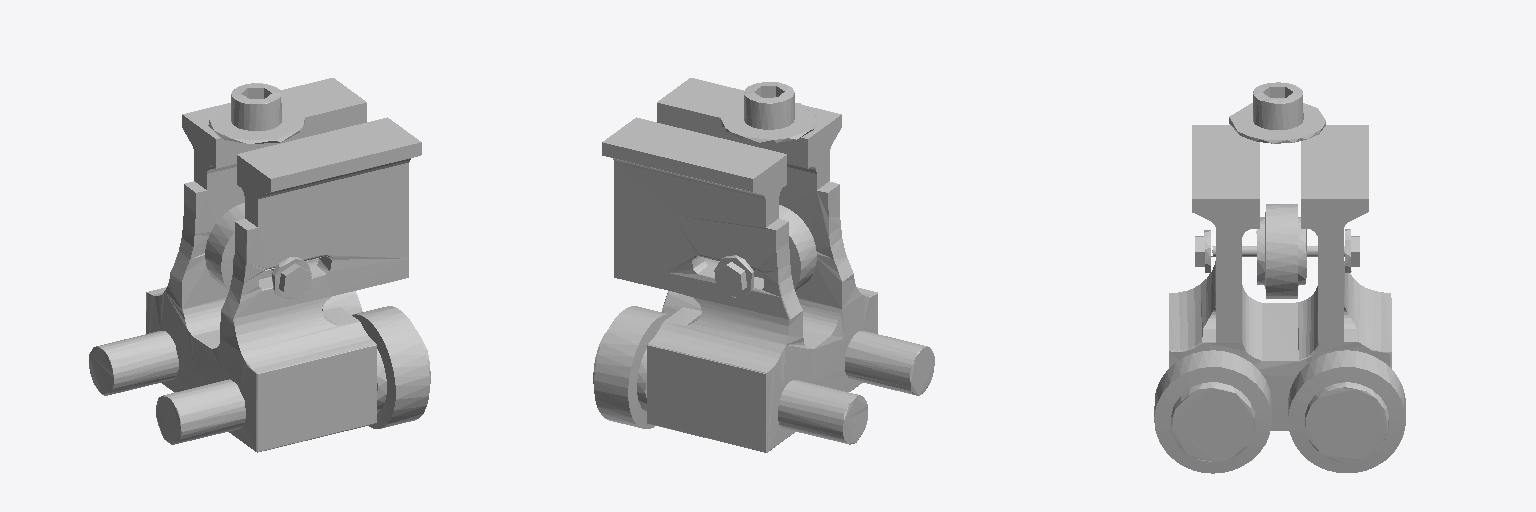
The model's file is guide.obj.
3 renders of one model, left to right at view 1: azimuth 30°, elevation 25°; view 2: azimuth 150°, elevation 25°; view 3: azimuth 270°, elevation 25°, orthographic.
Visible parts, largest first — view 1: object_1; view 2: object_1; view 3: object_1.
Boxes of the visible parts, x1,y1,x2,y2 form: object_1: [89, 78, 430, 452]; object_1: [593, 78, 934, 452]; object_1: [1154, 82, 1405, 473].
Size of the model in its own units: 2.2 by 2.83 by 1.97.